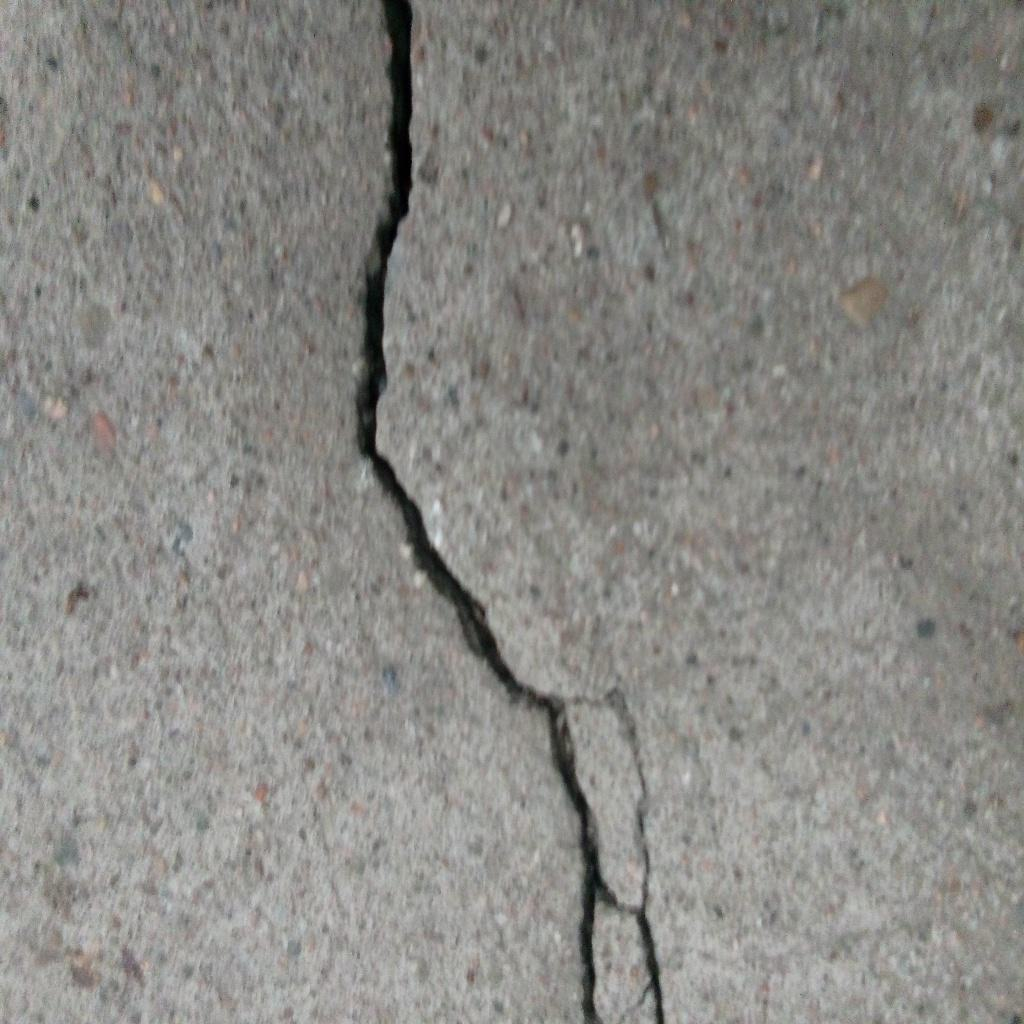Crack: (356, 1, 667, 1024)
